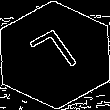L_SE: (25, 25, 85, 85)
